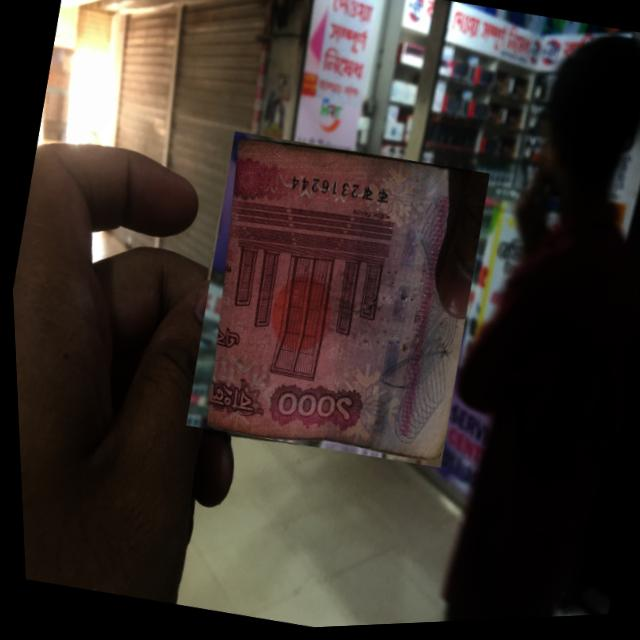Taka: (171, 124, 498, 480)
